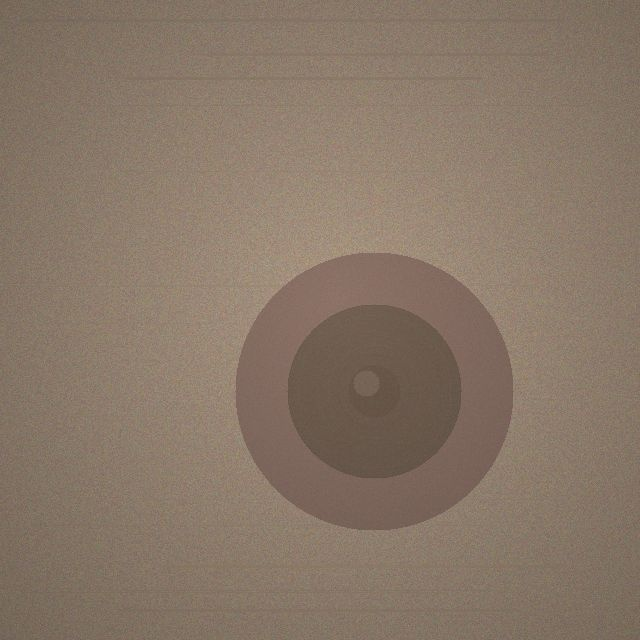good: (235, 252, 513, 530)
